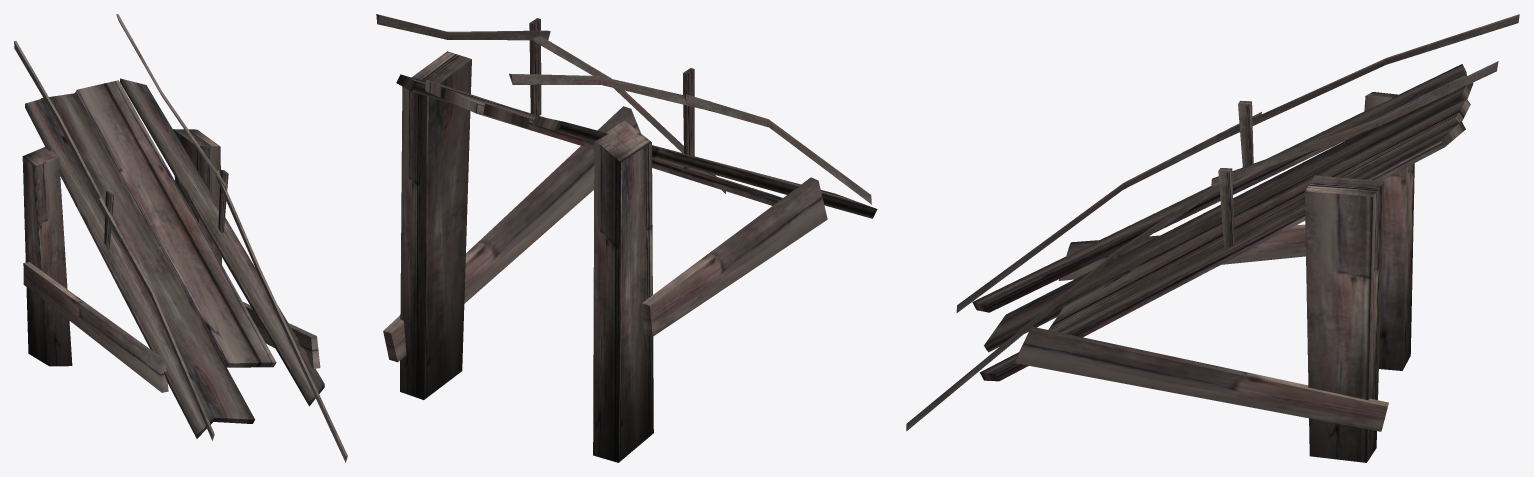
File: pir_m_prp_swm_ramp.fbx
The picture shows the model from 3 angles, left to right: view 1: azimuth 30°, elevation 25°; view 2: azimuth 150°, elevation 25°; view 3: azimuth 270°, elevation 25°; orthographic projection. The views are drawn at different scales.
Parts seen in each view (by area): view 1: TablePlank100, TablePlank99, TablePlank101, TablePlank151, plank52, TablePlank188, plank51, balconypost213, balconypost215, balconypost214, TablePlank187, balconypost212 (+2 smaller); view 2: plank51, plank52, TablePlank188, TablePlank187, TablePlank151, TablePlank99, balconypost215, balconypost214, balconypost212, TablePlank100, balconypost213, balconypost208 (+1 smaller); view 3: plank51, TablePlank187, TablePlank99, TablePlank100, TablePlank151, TablePlank101, plank52, balconypost213, balconypost212, balconypost214, TablePlank188, balconypost215 (+2 smaller).
Part boxes in pixels (x1,y1,x2,y2): TablePlank100: [75, 80, 276, 367]; TablePlank99: [41, 93, 254, 423]; TablePlank101: [120, 78, 324, 406]; TablePlank151: [25, 99, 214, 438]; plank52: [22, 147, 72, 366]; TablePlank188: [23, 262, 168, 392]; plank51: [173, 129, 221, 264]; balconypost213: [216, 170, 347, 462]; balconypost215: [99, 198, 214, 440]; balconypost214: [14, 41, 118, 228]; TablePlank187: [243, 302, 320, 368]; balconypost212: [116, 14, 226, 191]; plank51: [400, 51, 471, 399]; plank52: [593, 120, 653, 462]; TablePlank188: [642, 177, 827, 336]; TablePlank187: [383, 106, 640, 362]; TablePlank151: [532, 116, 877, 218]; TablePlank99: [483, 103, 782, 205]; balconypost215: [683, 93, 871, 204]; balconypost214: [509, 73, 711, 110]; balconypost212: [376, 14, 550, 40]; TablePlank100: [425, 80, 710, 174]; balconypost213: [530, 30, 725, 193]; balconypost208: [683, 68, 694, 168]; plank51: [1304, 175, 1384, 462]; TablePlank187: [1014, 326, 1388, 431]; TablePlank99: [984, 82, 1473, 352]; TablePlank100: [1048, 98, 1470, 331]; TablePlank151: [972, 64, 1466, 312]; TablePlank101: [980, 121, 1465, 381]; plank52: [1364, 92, 1414, 370]; balconypost213: [906, 171, 1237, 431]; balconypost212: [1211, 61, 1498, 187]; balconypost214: [1216, 14, 1519, 142]; TablePlank188: [1058, 224, 1305, 280]; balconypost215: [956, 112, 1261, 312].
Size of the model in its own units: 1519 by 2411 by 3544.
Materials: 1 (1 with a texture image).
